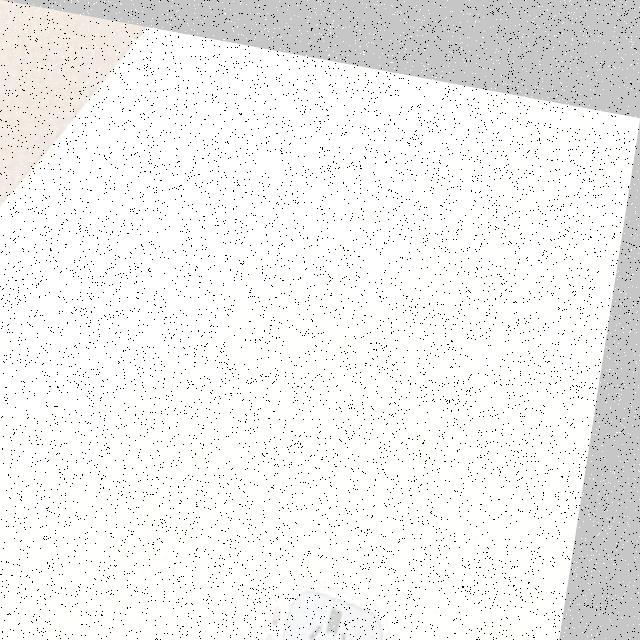adapter: (271, 558, 412, 640)
